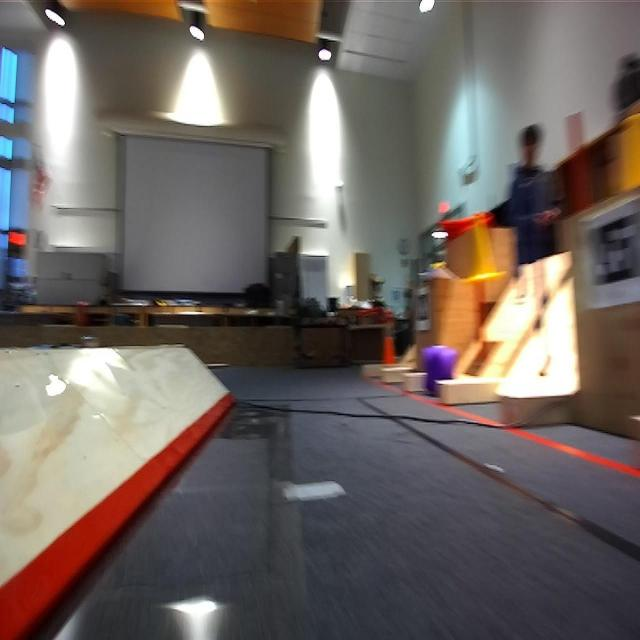frc_cone: (611, 100, 639, 193), (463, 213, 498, 284)
frc_cube: (420, 342, 454, 388)
